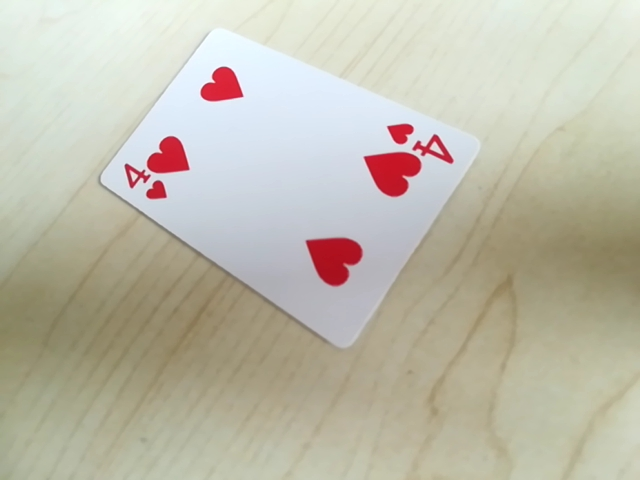hx 4: (381, 119, 459, 162), (115, 163, 178, 207)
